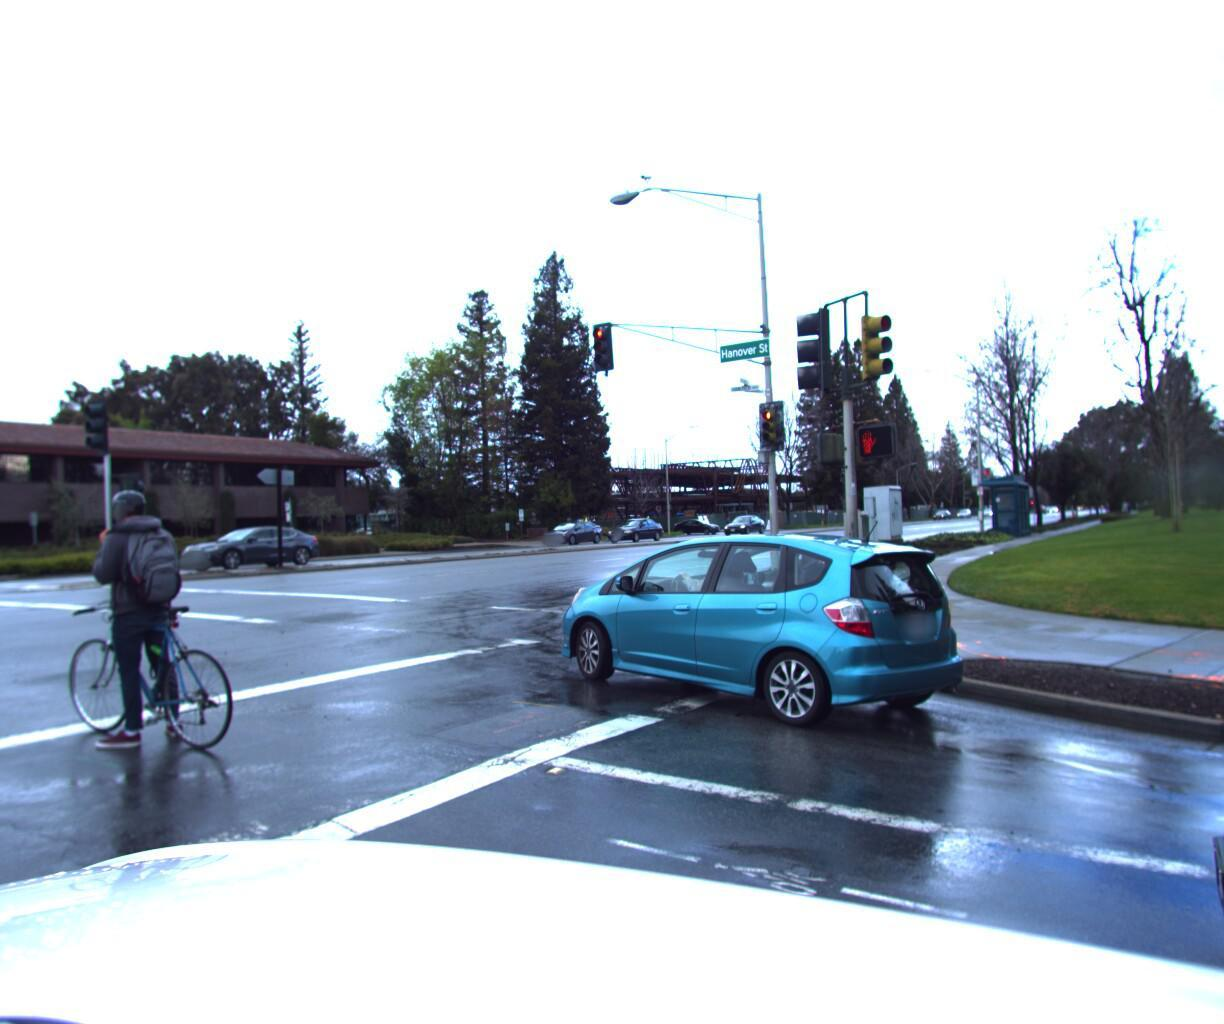bicycle: (0, 478, 263, 772)
car: (541, 516, 997, 749), (157, 520, 316, 573), (536, 517, 605, 545), (604, 513, 670, 541), (669, 517, 721, 537), (725, 510, 771, 533)
